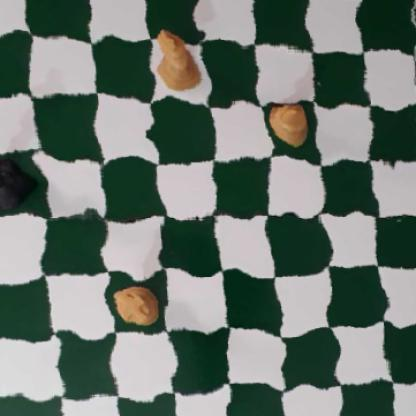black-king: (0, 151, 37, 207)
white-bishop: (262, 99, 308, 148)
white-king: (152, 29, 202, 96)
white-rook: (113, 278, 163, 326)
